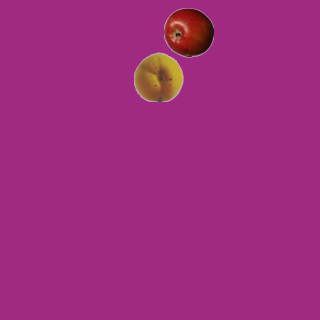Apple Braeburn: (163, 7, 213, 57)
Peach 2: (133, 51, 183, 101)
